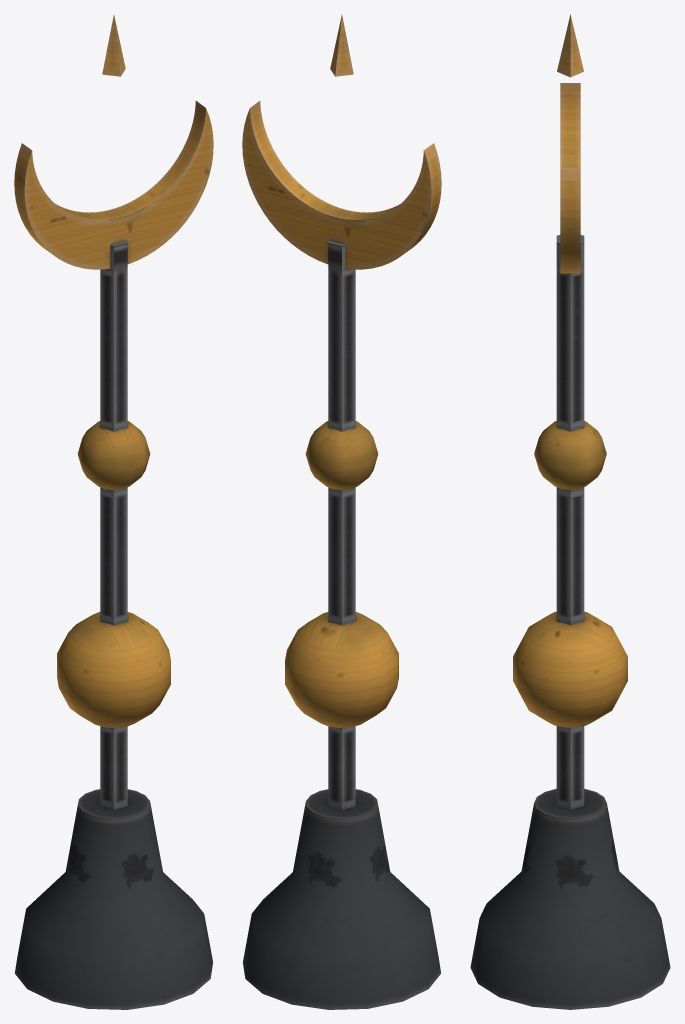
The model's file is MoonFinial.fbx.
3 renders of one model, left to right at view 1: azimuth 30°, elevation 25°; view 2: azimuth 150°, elevation 25°; view 3: azimuth 270°, elevation 25°, orthographic.
Parts seen in each view (by area): view 1: MoonFinial; view 2: MoonFinial; view 3: MoonFinial.
Boxes of the visible parts, x1=… form: MoonFinial: x1=14, y1=15, x2=213, y2=1009; MoonFinial: x1=242, y1=15, x2=441, y2=1009; MoonFinial: x1=470, y1=14, x2=670, y2=1009.
Size of the model in its own units: 72 by 347 by 66.
